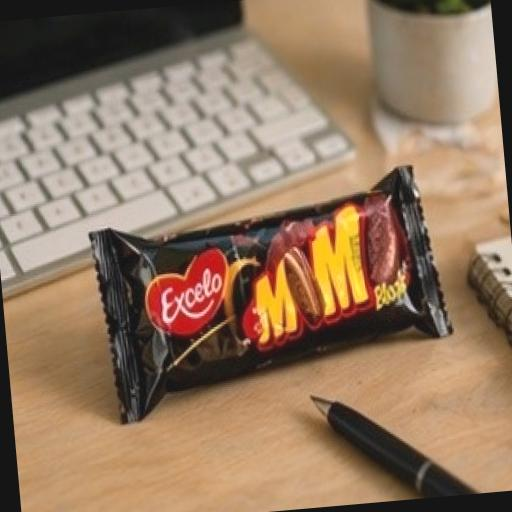MOMO: (60, 124, 484, 432)
